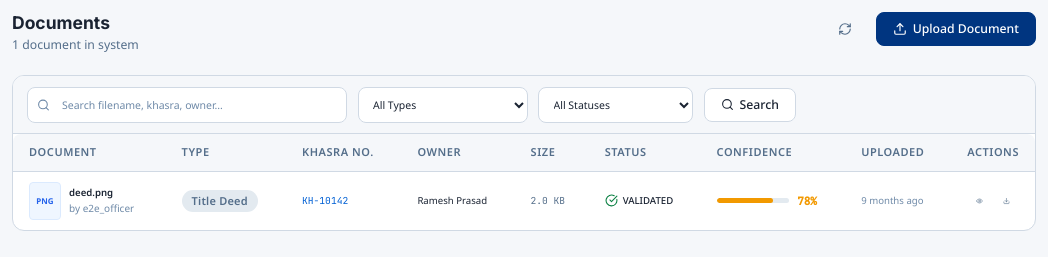
Test: DocumentsPage view and download actions › surfaces a load failure inside the modal
Click the button titled "View details" at point(980, 201), box x1=967 y1=191 x2=992 y2=211
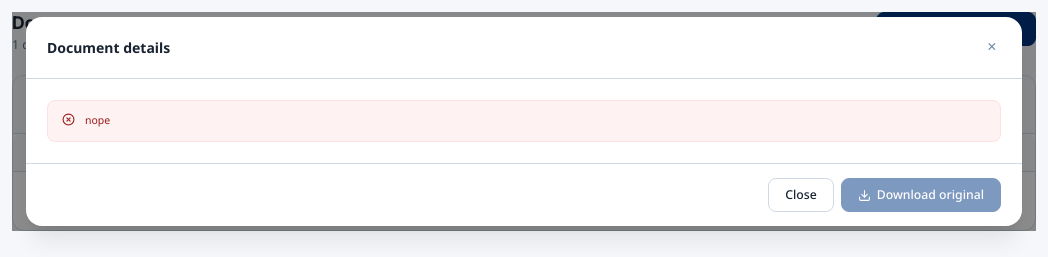
expect the text "nope" is shown: met, box x1=85 y1=113 x2=110 y2=129
